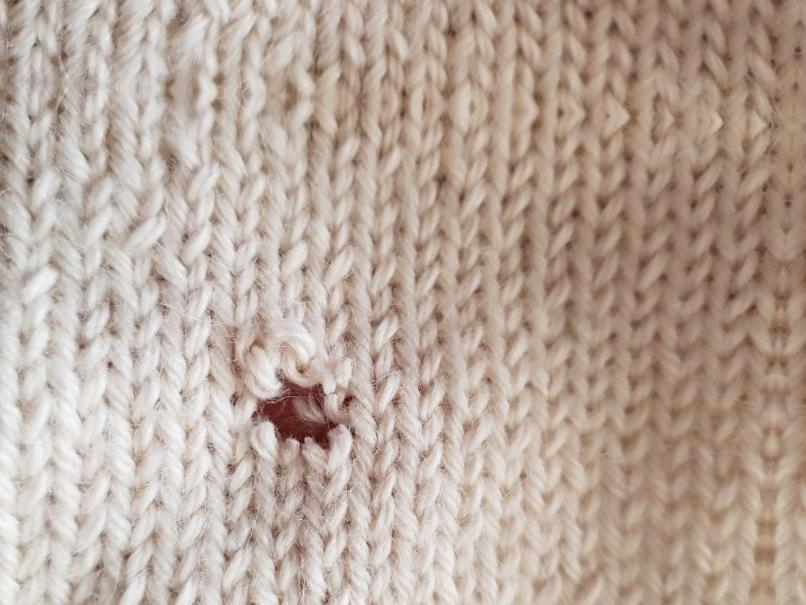hole: (242, 369, 358, 466)
